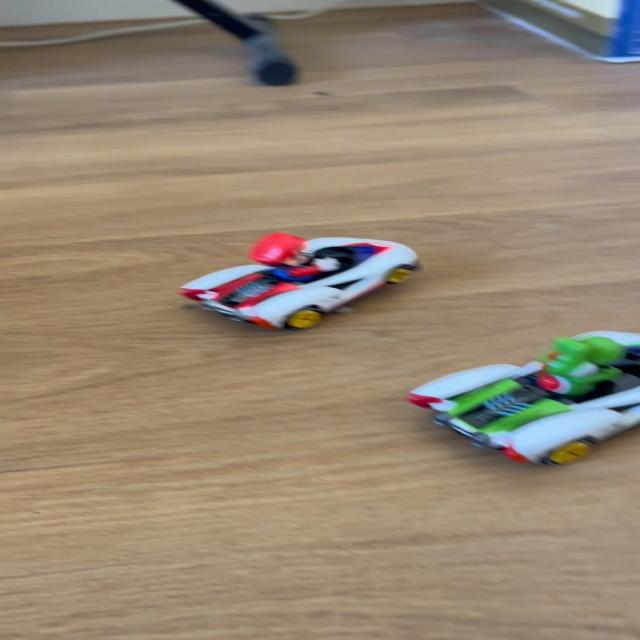mario: (154, 227, 439, 329)
yoshi: (398, 320, 640, 474)
